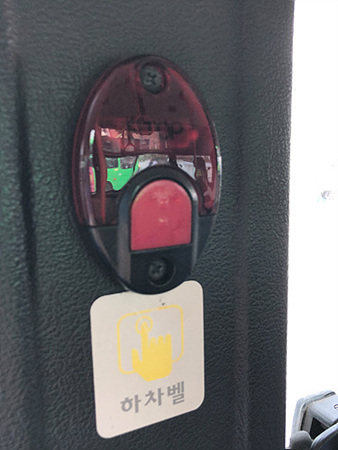bell: (67, 54, 223, 297)
